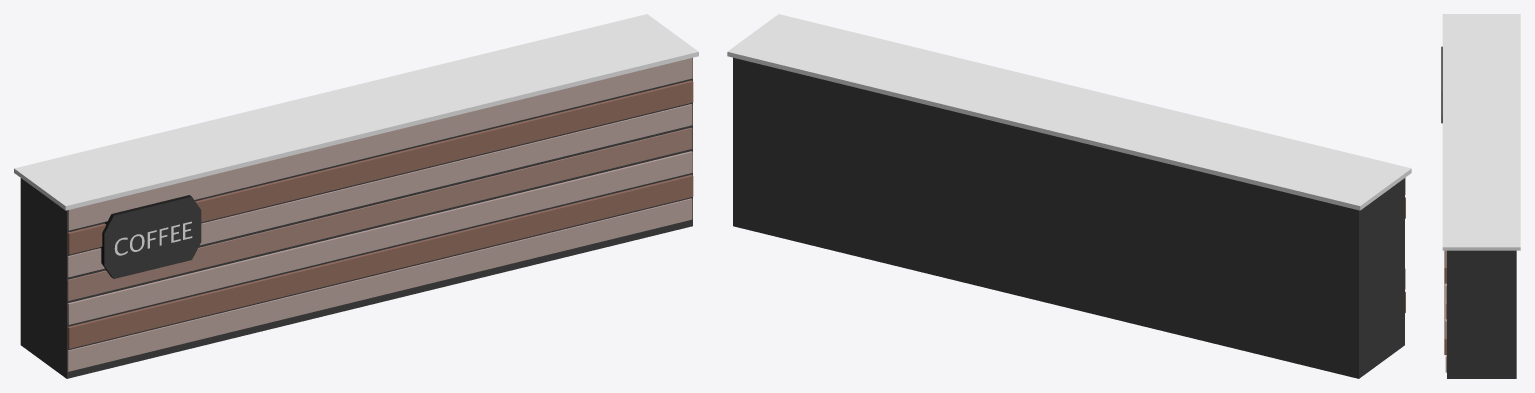
File: kitchen_item_039.glb
The picture shows the model from 3 angles, left to right: view 1: azimuth 30°, elevation 25°; view 2: azimuth 150°, elevation 25°; view 3: azimuth 270°, elevation 25°; orthographic projection. The views are drawn at different scales.
Parts seen in each view (by area): view 1: kitchen_item_039; view 2: kitchen_item_039; view 3: kitchen_item_039.
Part boxes in pixels (x1=…): kitchen_item_039: x1=14, y1=14, x2=698, y2=378; kitchen_item_039: x1=727, y1=14, x2=1411, y2=378; kitchen_item_039: x1=1441, y1=14, x2=1520, y2=378.
Bounding box in the file's own units: 4.44 × 1.18 × 0.6474.
1 material, 1 textured.
